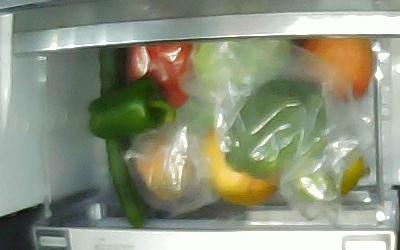apple_vinyl: (294, 37, 372, 100)
broccoli_vinyl: (225, 80, 338, 202)
cucumber: (98, 48, 145, 229)
grapefruit: (205, 129, 278, 207)
paprika: (88, 79, 175, 139)
paprika_vinyl: (127, 41, 194, 110)
persimmon_vinyl: (292, 140, 363, 203)
